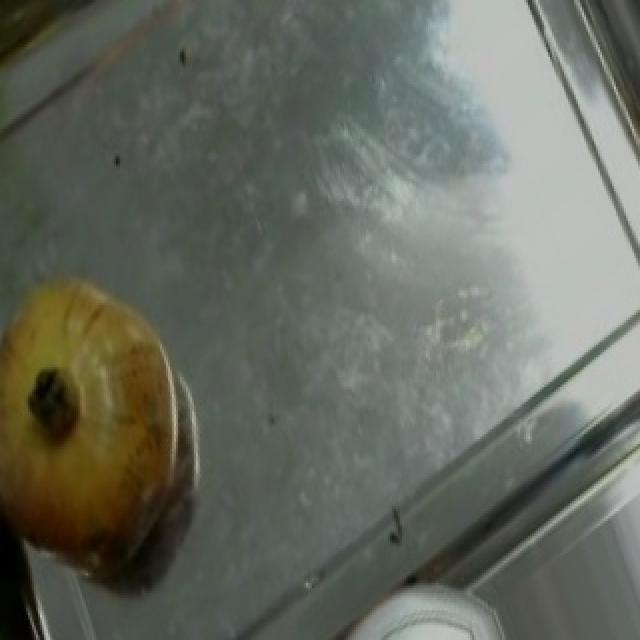fruit: (0, 295, 212, 608)
